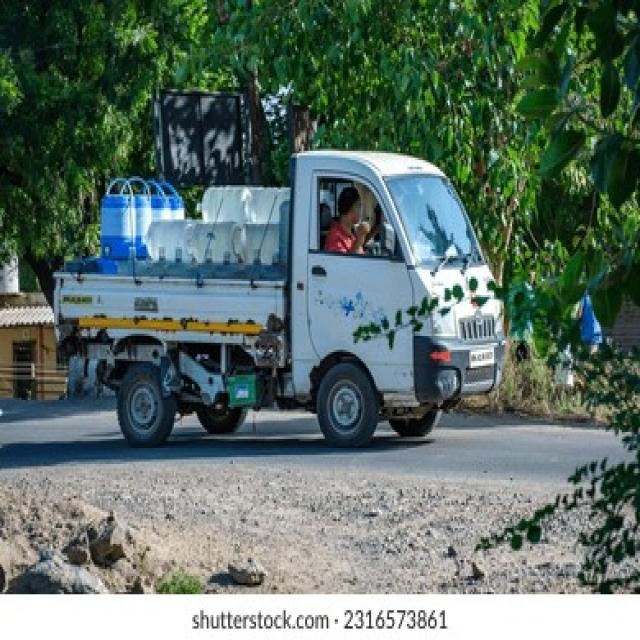truck: (55, 153, 505, 446)
